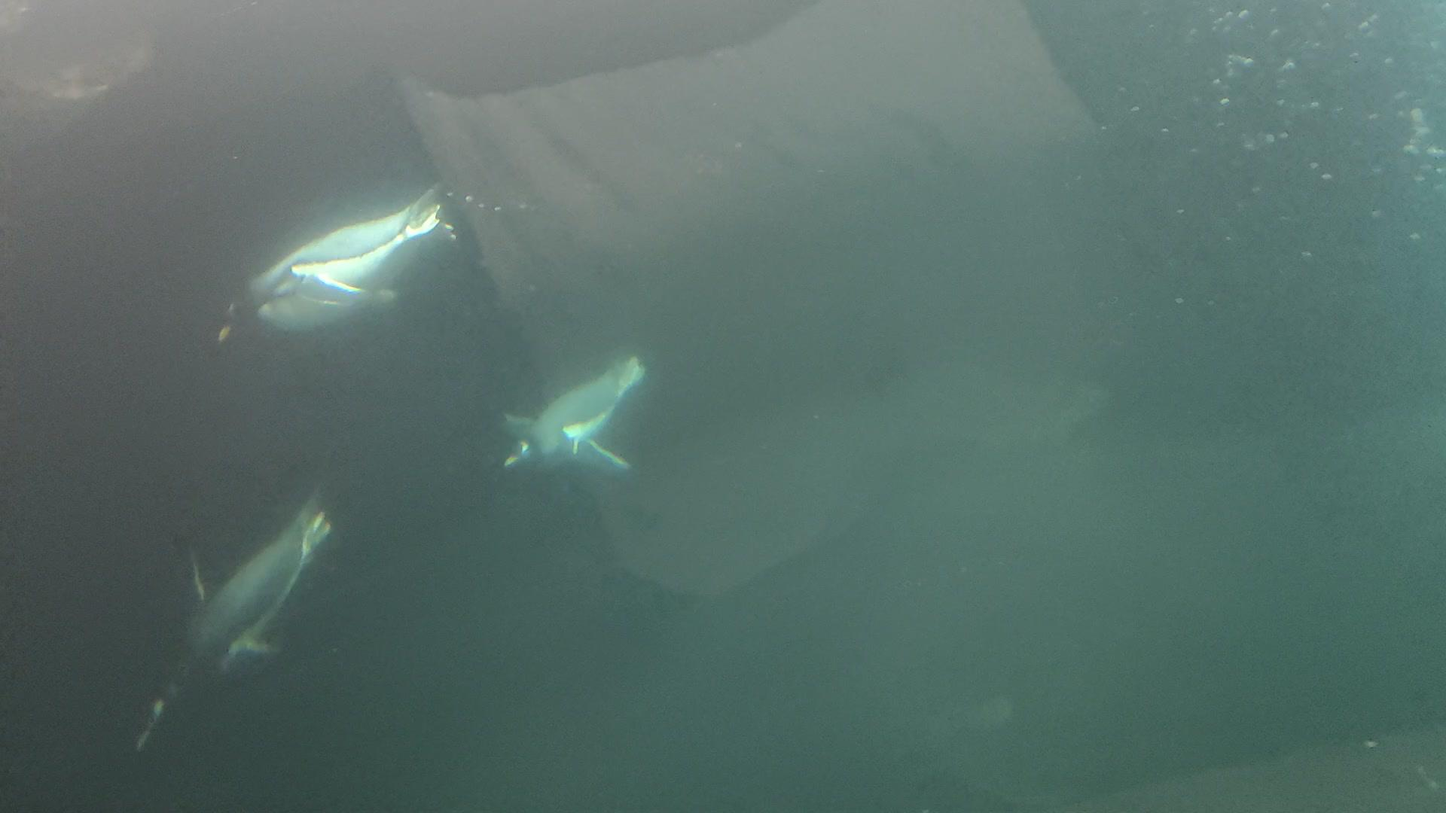apple: (136, 487, 331, 753), (218, 188, 458, 342), (502, 355, 646, 470)
